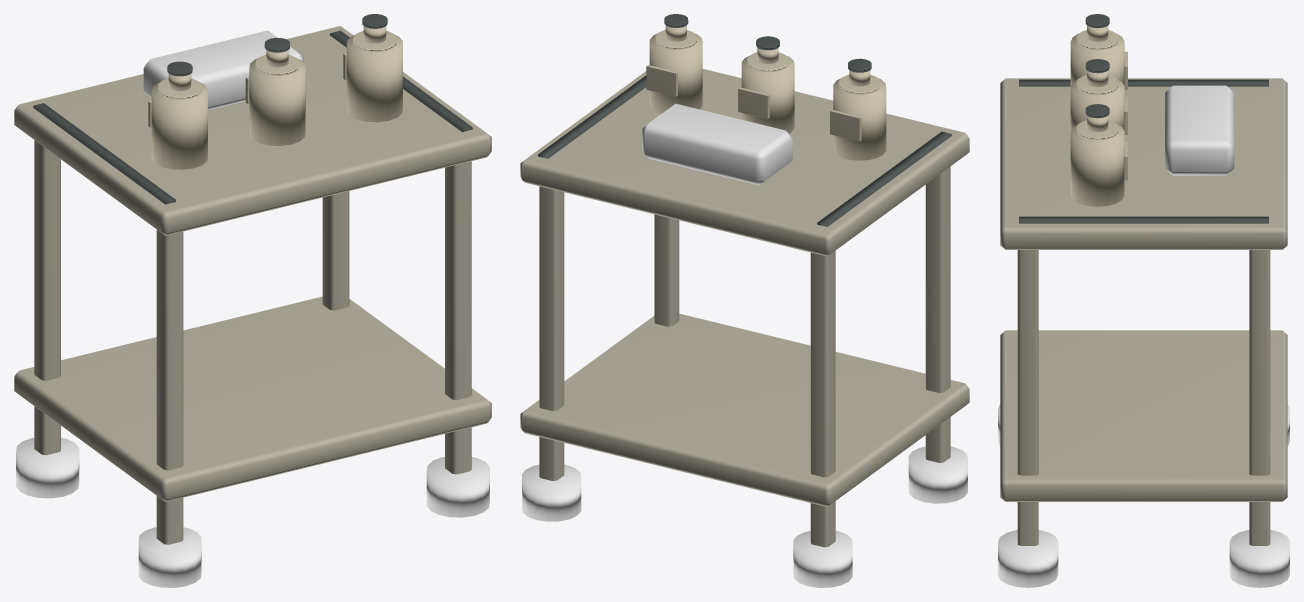
Rendered from InstrumentCart62.fbx.
The picture shows the model from 3 angles, left to right: view 1: azimuth 30°, elevation 25°; view 2: azimuth 150°, elevation 25°; view 3: azimuth 270°, elevation 25°; orthographic projection. The views are drawn at different scales.
Parts seen in each view (by area): view 1: InstrumentCart62; view 2: InstrumentCart62; view 3: InstrumentCart62.
Part boxes in pixels (left/top/right/bottom): InstrumentCart62: left=14, top=14, right=491, bottom=587; InstrumentCart62: left=520, top=14, right=969, bottom=587; InstrumentCart62: left=998, top=14, right=1289, bottom=587.
Bounding box in the file's own units: 81 × 106 × 63.
